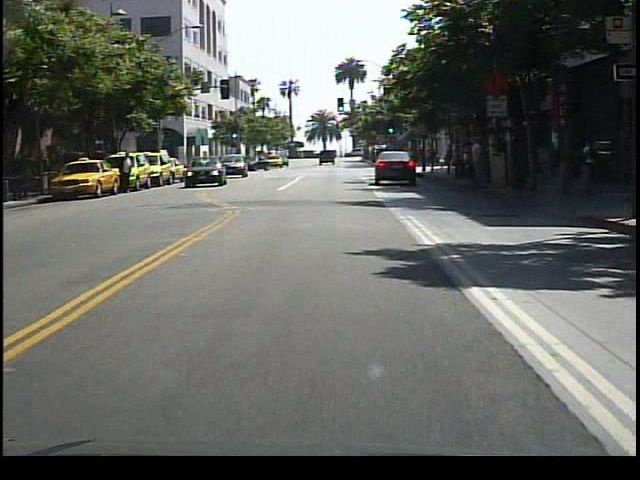person: (469, 133, 492, 197), (121, 147, 139, 197)
